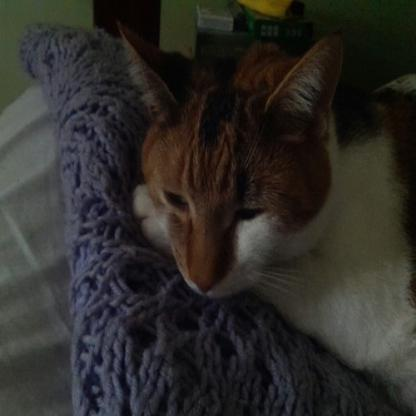Target: (117, 22, 416, 409)
